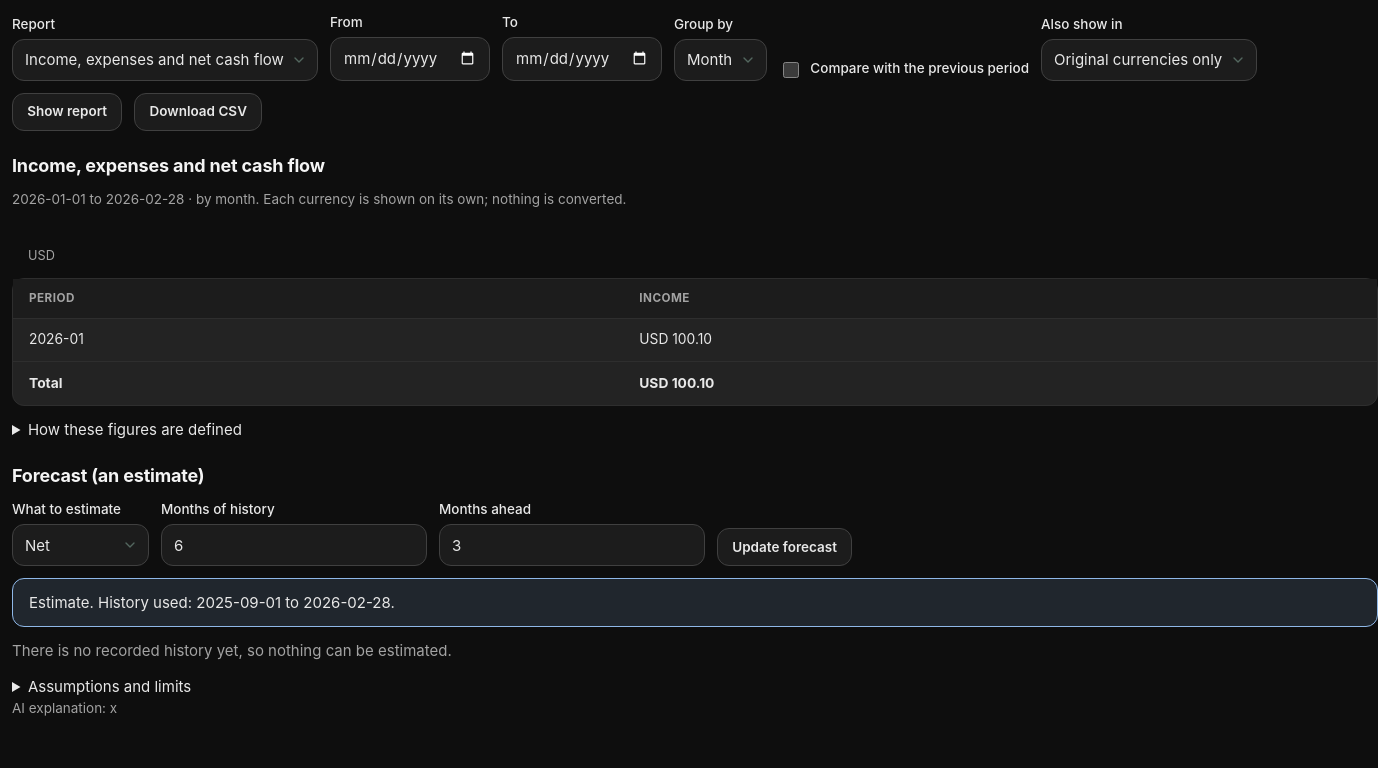
Test: multi-currency reports › shows the original amounts and, beside them, the converted view with each rate, its date and its source
Select "INR" in the dropdown labelled "Also show in" at (1149, 60), box [1041,39,1257,81]
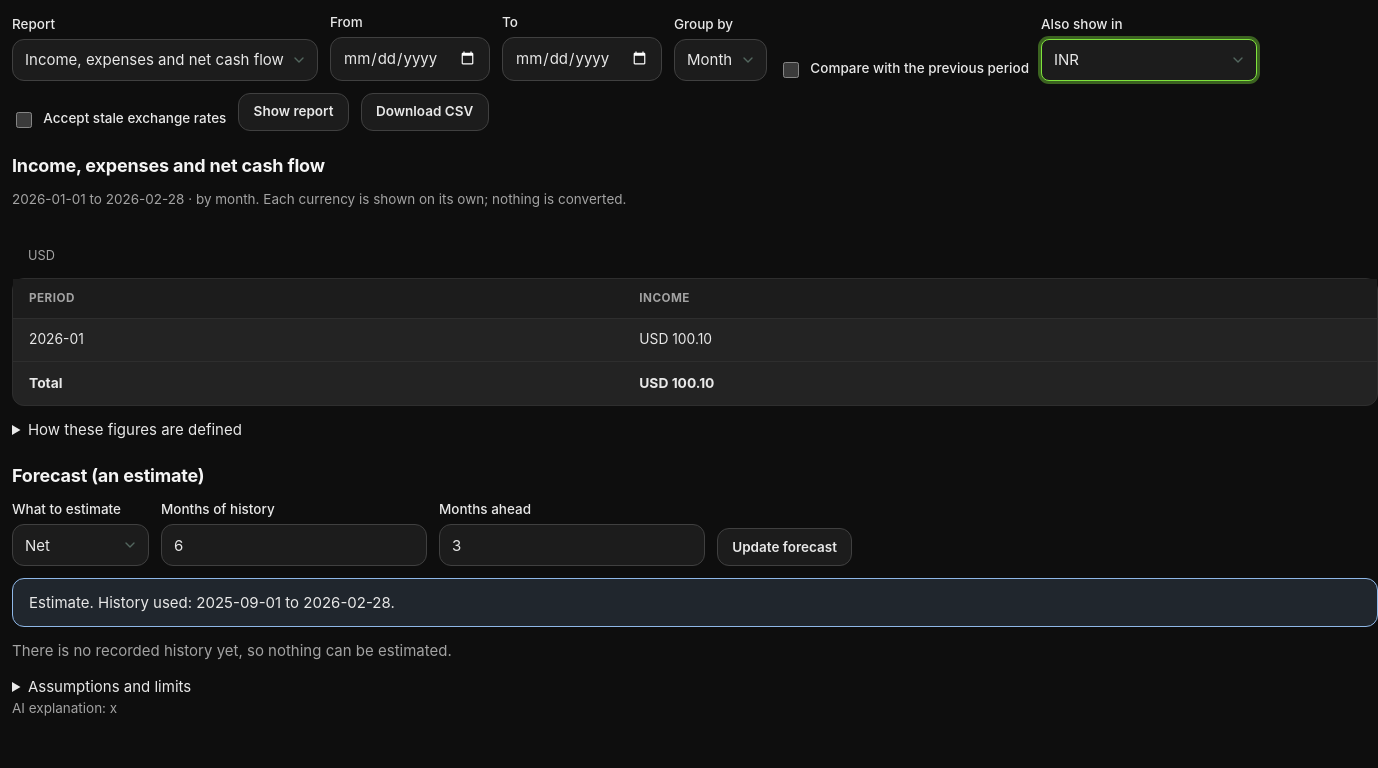
Click the button "Show report" at (294, 112), box [238,93,349,131]
(page scrolled)
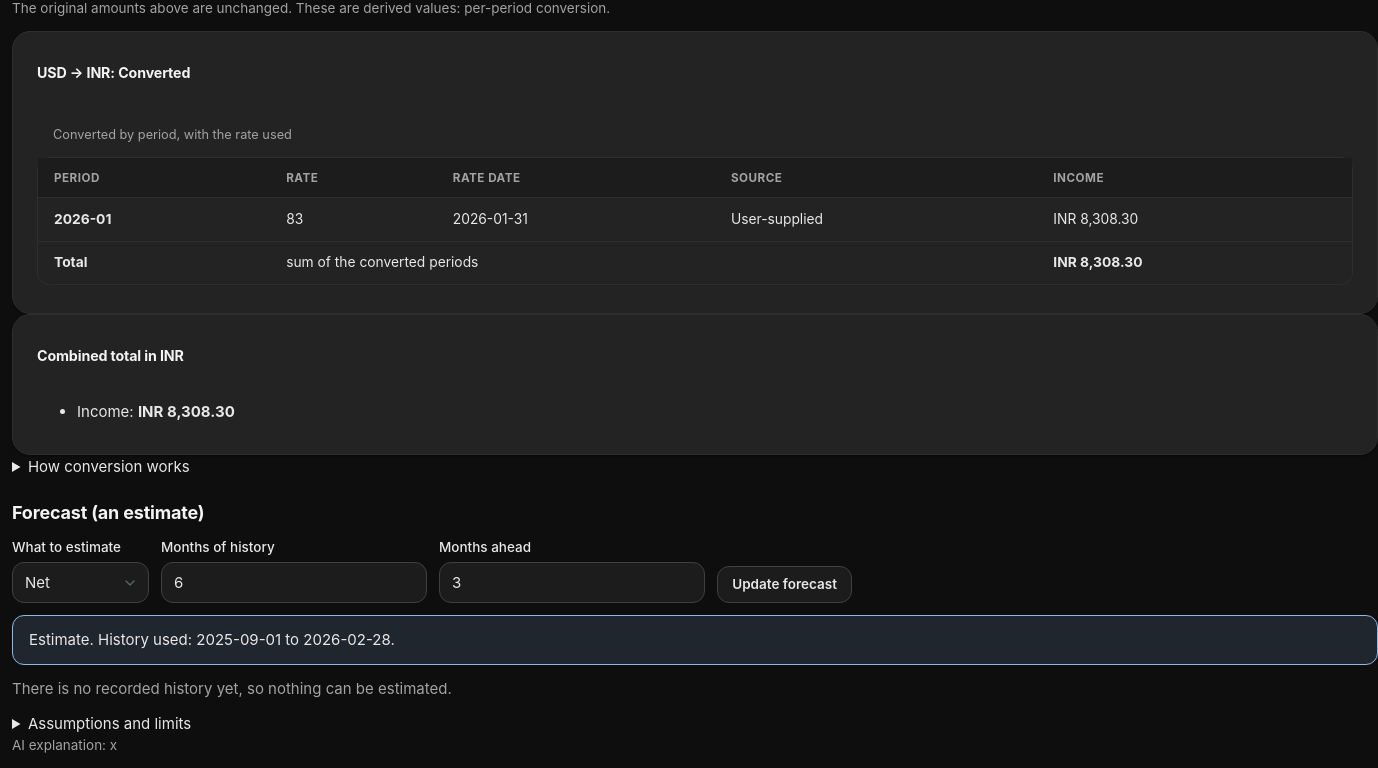
Expected: the text "original amounts above are unchanged" is shown, [12,0,464,16]
Expected: the heading "USD → INR: Converted" is shown, [37,64,190,80]
Expected: the text "INR 8,308.30" in the row of "83" is shown, [1053,211,1138,227]
